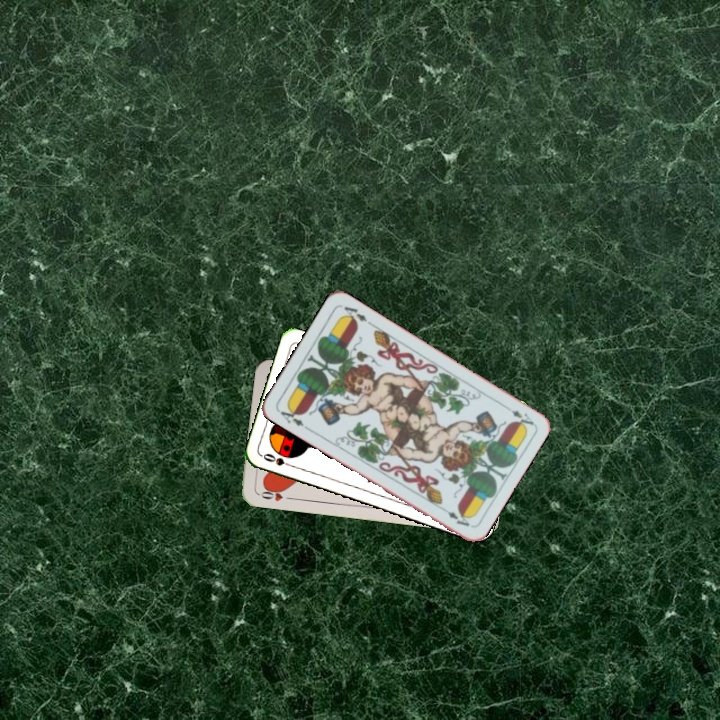EA: (275, 403, 307, 429), (507, 406, 536, 430)
HO: (255, 483, 295, 504)
SO: (259, 449, 298, 471)
